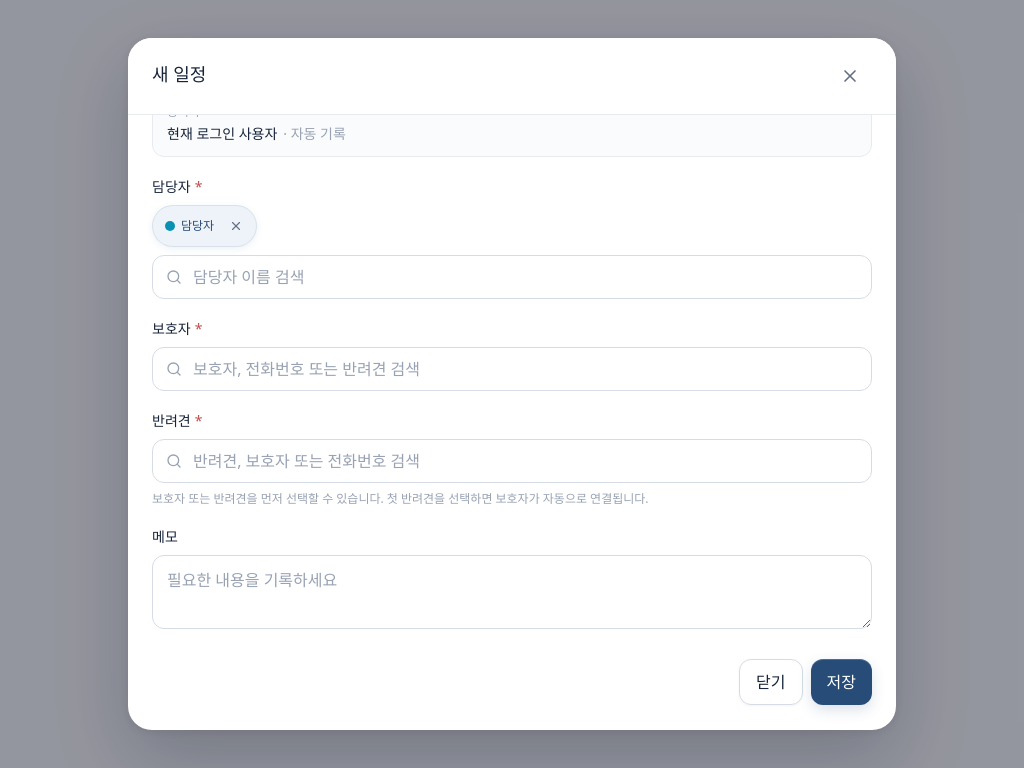
Test: shared ScheduleFormModal Hotel mode › restores Dog-first search and auto-selects the first Dog's Customer
The image size is (1024, 768).
(page scrolled)
Type "토리" into the dropdown labelled "반려견" at (512, 461), box [152,439,872,483]
(page scrolled)
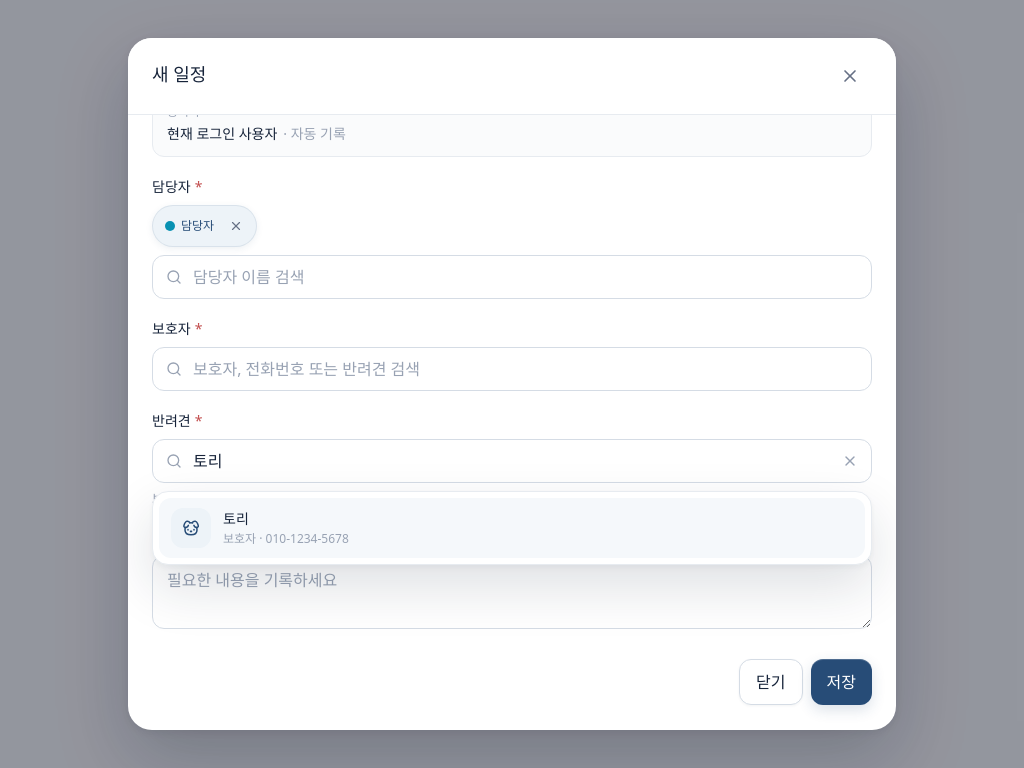
Click the option "토리 보호자 · 010-1234-5678" at (191, 528), box [159,498,865,558]
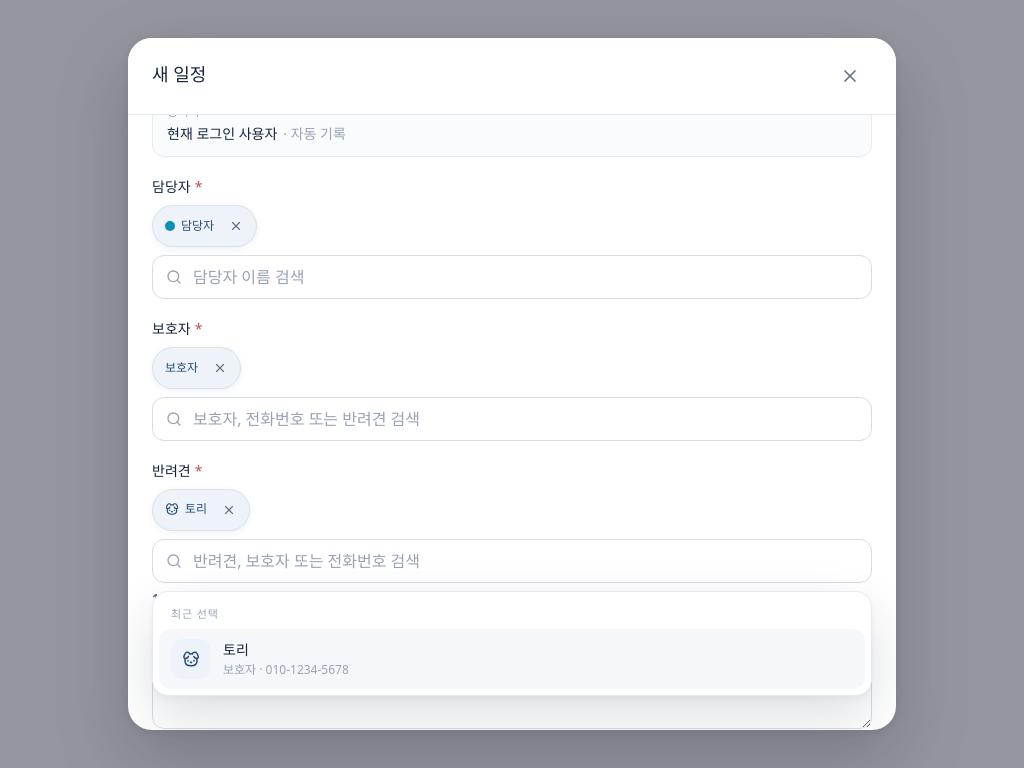
Expected: the element named "보호자 선택됨" reads "보호자", [165,359,198,376]
Result: the element named "반려견 선택됨" reads "토리" at [185,500,207,517]
Type "보리" into the dropdown labelled "반려견" at (512, 561), box [152,539,872,583]
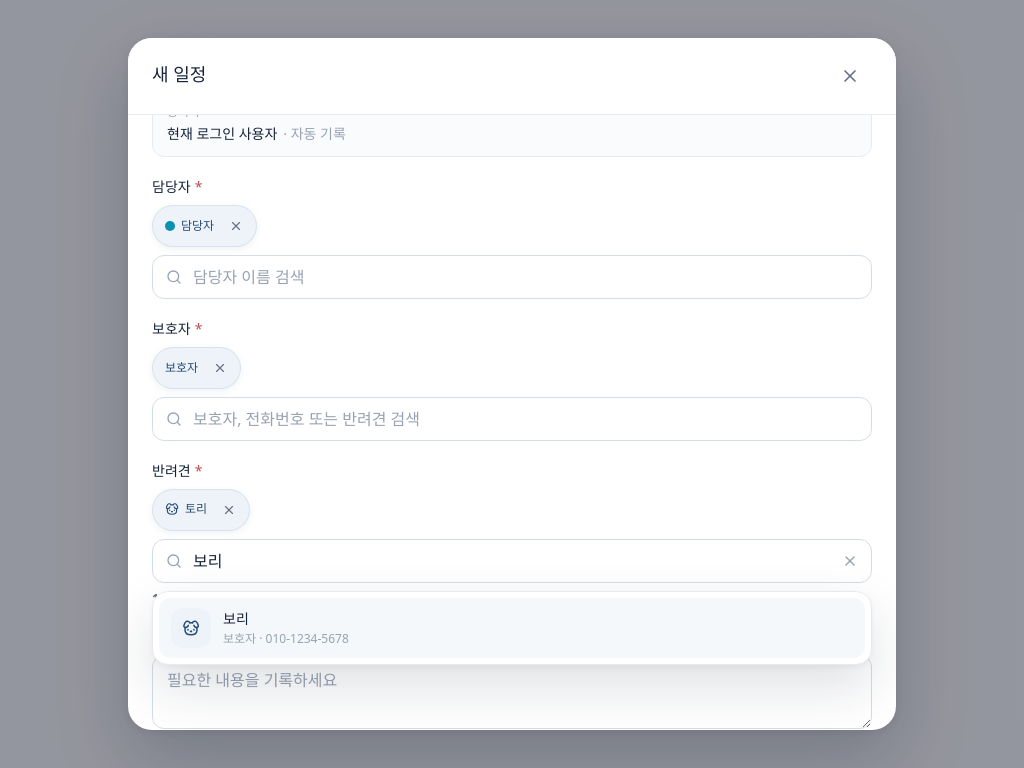
Click the option "보리 보호자 · 010-1234-5678" at (191, 628), box [159,598,865,658]
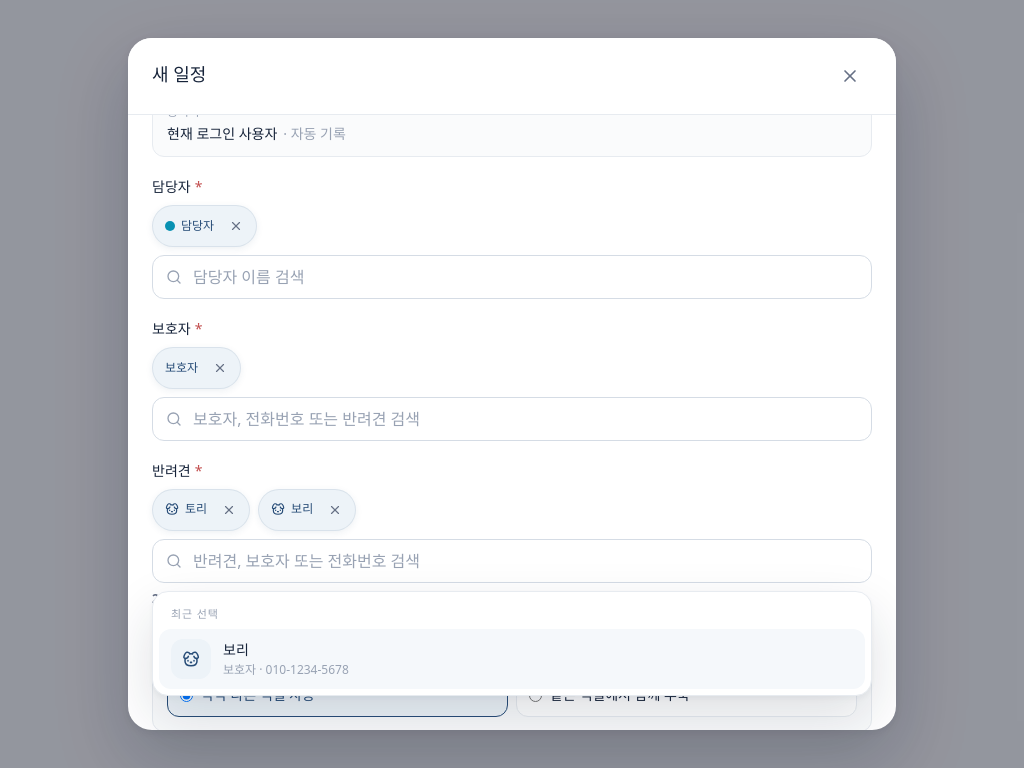
Result: the element named "반려견 선택됨" shows "보리" at [291,500,313,517]
Result: the text "2마리 선택됨" is shown at [152,590,217,607]
Type "구름" into the dropdown labelled "반려견" at (512, 561), box [152,539,872,583]
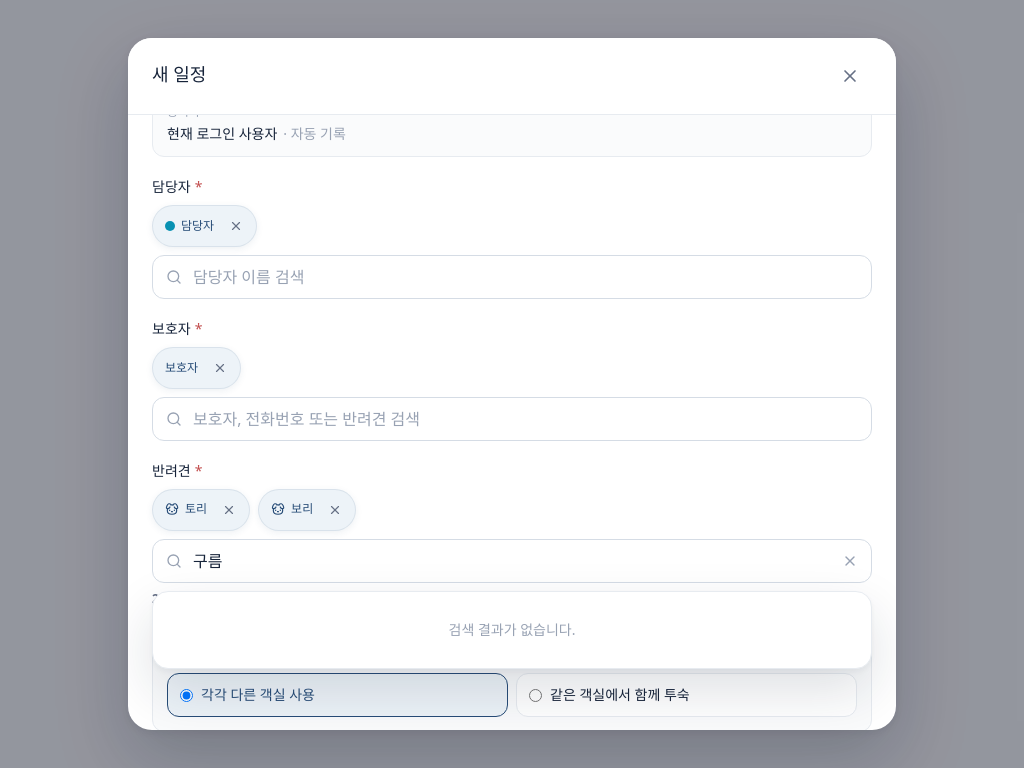
Result: the text "검색 결과가 없습니다." is shown at [448,620,576,639]
